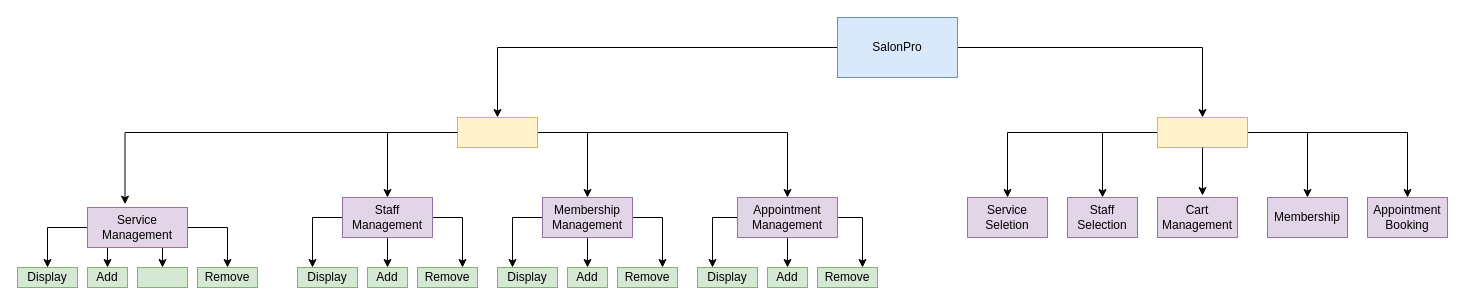
Image size: 1465x305. Some labels were removed from this diagram. The shapes that lost their labels are listed below. From the top down, each one's centre as x and y in pixels, then its label:
At (497,132): "Admin".
At (1202,132): "Customer".
At (162,277): "Edit".
